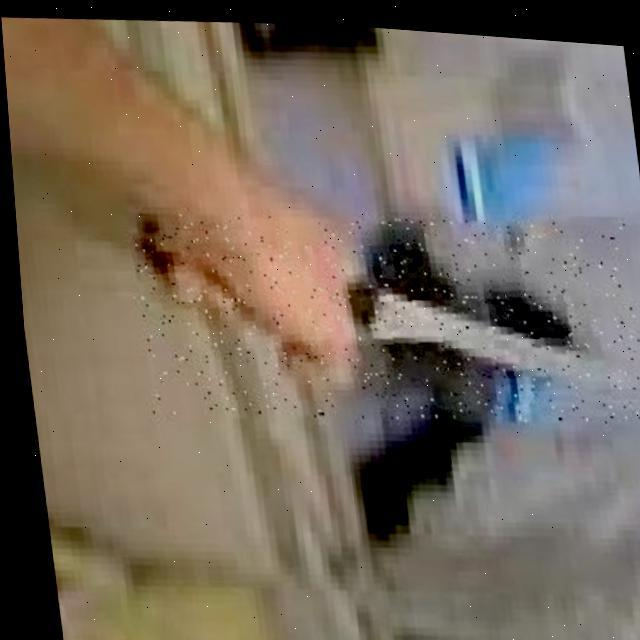knife: (124, 184, 640, 440)
